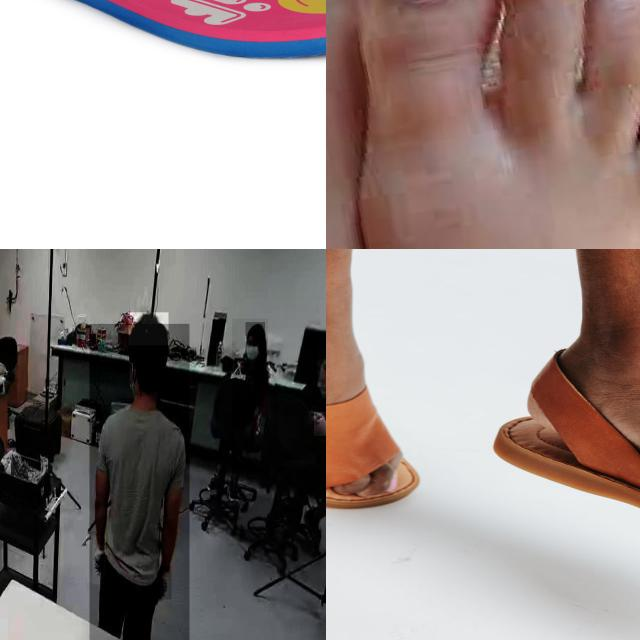Barefoots: (326, 0, 640, 249)
Sandals: (488, 323, 640, 630), (0, 0, 326, 61)
face_mask: (244, 334, 264, 366)
face_nomask: (317, 359, 326, 387)
hand_glove: (92, 536, 106, 586), (160, 566, 172, 600)
hand_noglove: (314, 412, 326, 437)
head_nohelmet: (129, 312, 169, 346), (246, 322, 266, 337), (316, 346, 326, 359)
person: (89, 323, 190, 640), (232, 318, 268, 428)
